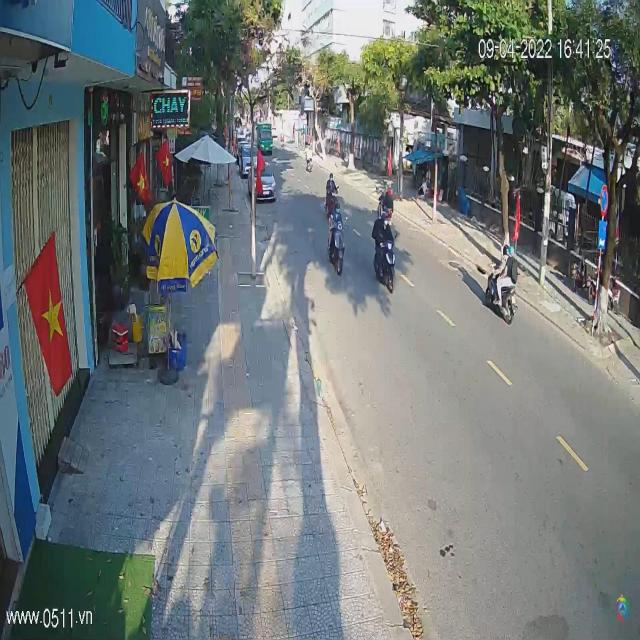car: (252, 158, 276, 204)
motorcycle: (483, 260, 519, 332), (371, 228, 396, 295), (324, 215, 348, 279)
